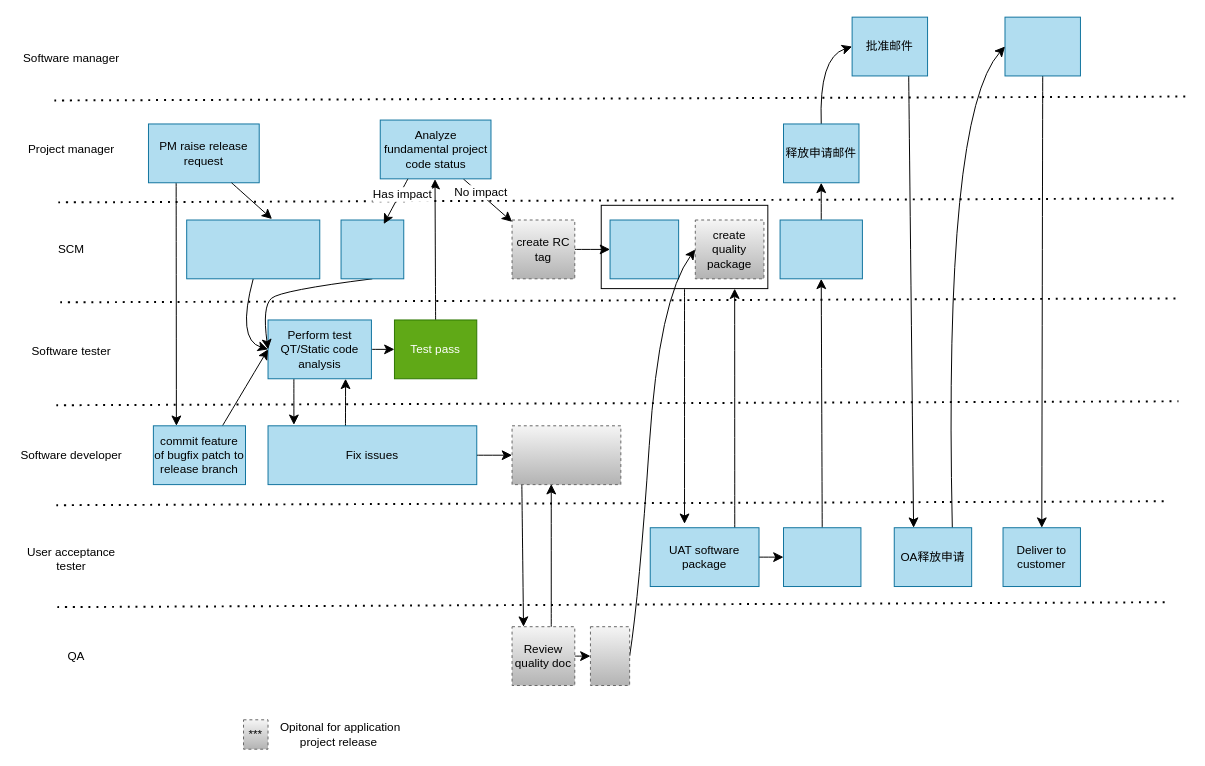
The diagram is 1205 pixels wide and 766 high, and some of its shapes have lost their labels. Here are the shapes that lost their labels. From the top down, the centre of each, then its label:
At [1042,46]: "OA批准".
At [253,249]: "create release branch app project release branch + Fundamental project tag".
At [372,249]: "Update fundamental project tag".
At [644,249]: "create software package".
At [820,249]: "create TAG & merge back".
At [566,455]: "Prepare others quality report".
At [822,557]: "UAT Pass".
At [609,656]: "Pass".
